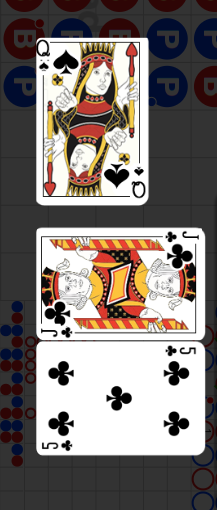5C: (163, 345, 198, 358)
JC: (163, 228, 200, 244)
QS: (132, 164, 148, 200)
